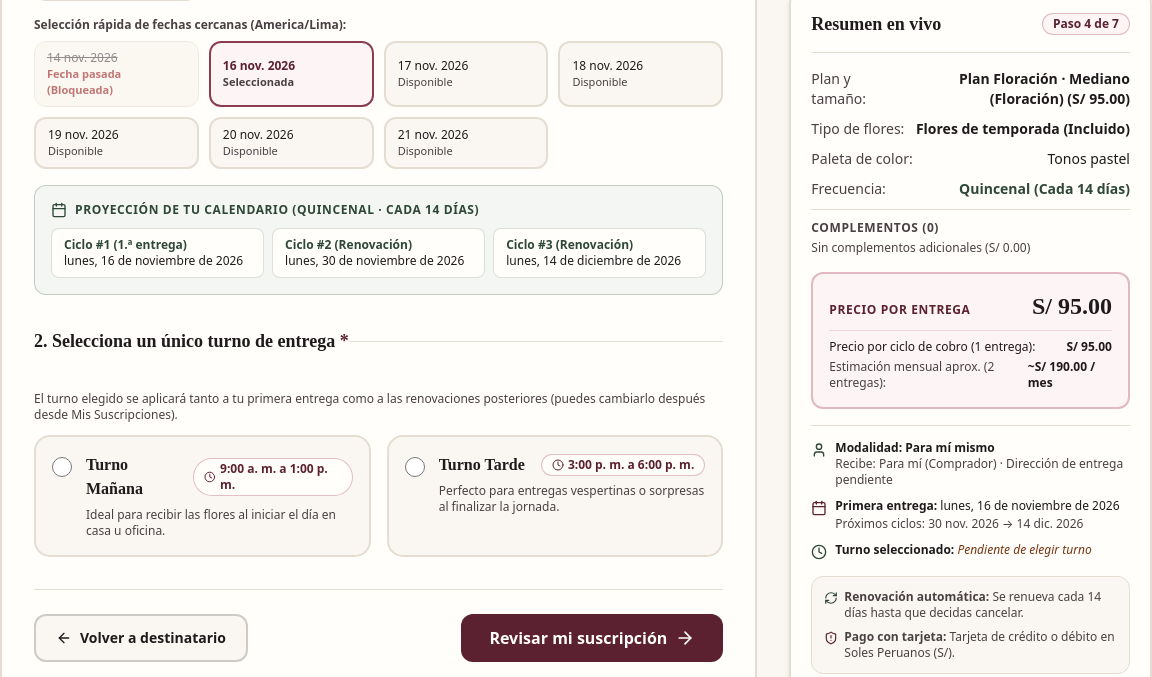
Test: Interacción y ccesibilidad (IHM) - El club de las flores › 3. Restricciones: impide continuar en el paso de entrega si no se ha seleccionado un turno y muestra mensaje claro
(page scrolled)
Click the button "Revisar mi suscripción" at [592, 638], box 461,614 -> 723,662
(page scrolled)
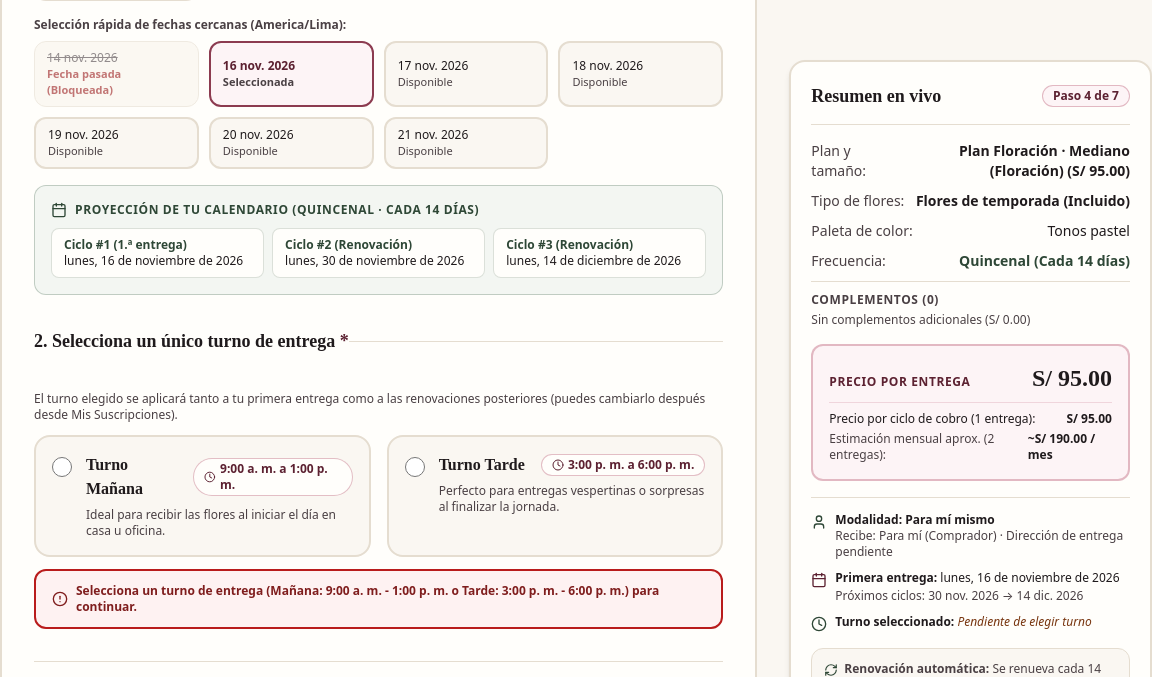
Now the message shows "Selecciona un turno", box 76,582 -> 659,615
Note: Ahora seleccionamos el Turno Mañana
Click the radio button labelled "Turno Mañana" at [62, 467], box 52,457 -> 72,477
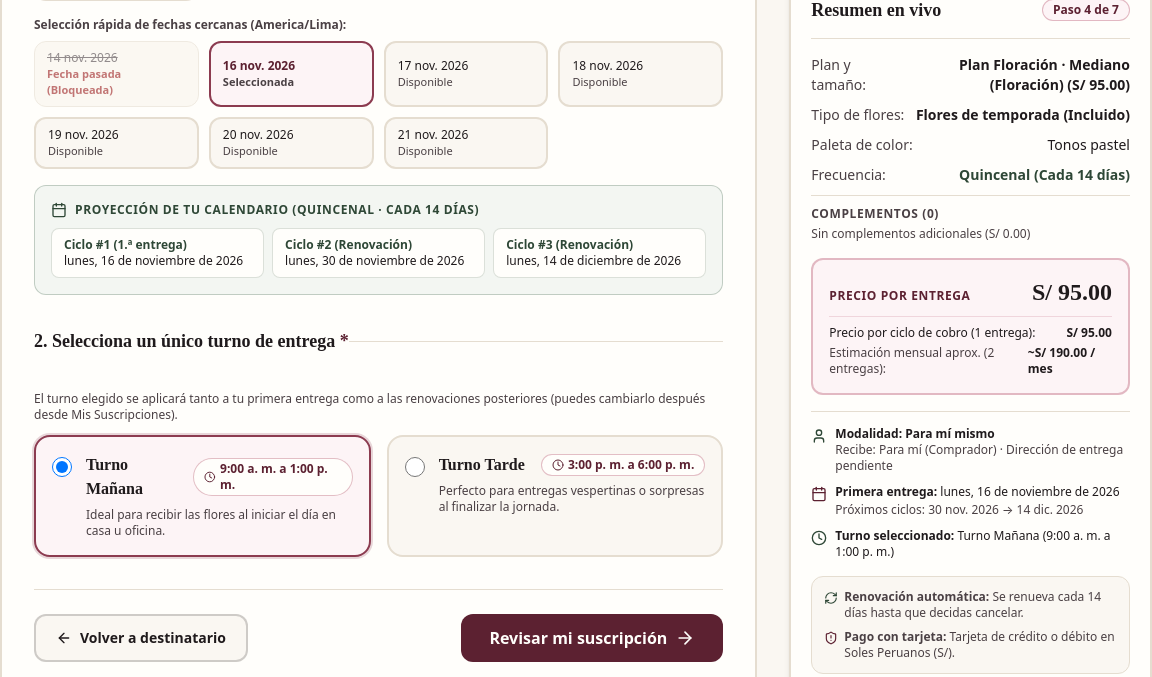
Now the text with test id "summary-selected-shift" shows "9:00 a. m. a 1:00 p. m.", box 835,527 -> 1110,560
